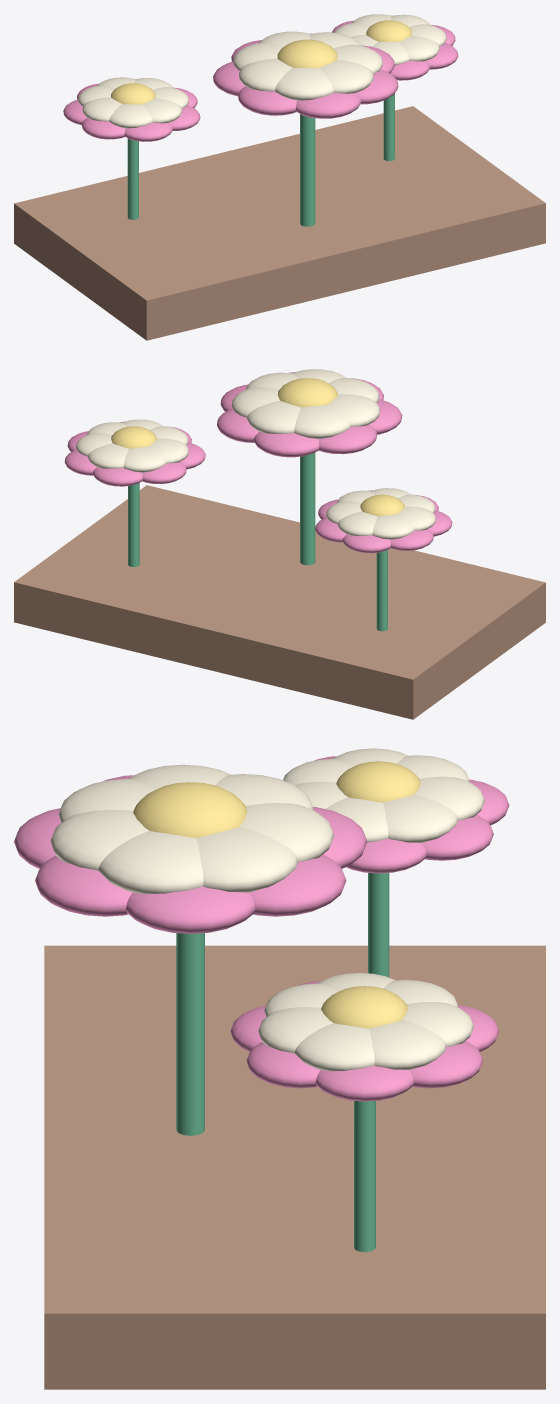
Rendered from rp_flowerbed.glb.
3 views of the same model, one above another, from view 1: azimuth 30°, elevation 25°; view 2: azimuth 150°, elevation 25°; view 3: azimuth 270°, elevation 25° (orthographic). The views are drawn at different scales.
Visible parts, largest first — view 1: Flower_Bed; view 2: Flower_Bed; view 3: Flower_Bed.
Part boxes in pixels (x1,y1,x2,y2): Flower_Bed: [14, 14, 545, 340]; Flower_Bed: [14, 369, 545, 719]; Flower_Bed: [14, 748, 545, 1389].
Bounding box in the file's own units: 1.25 × 0.6566 × 0.7637.
